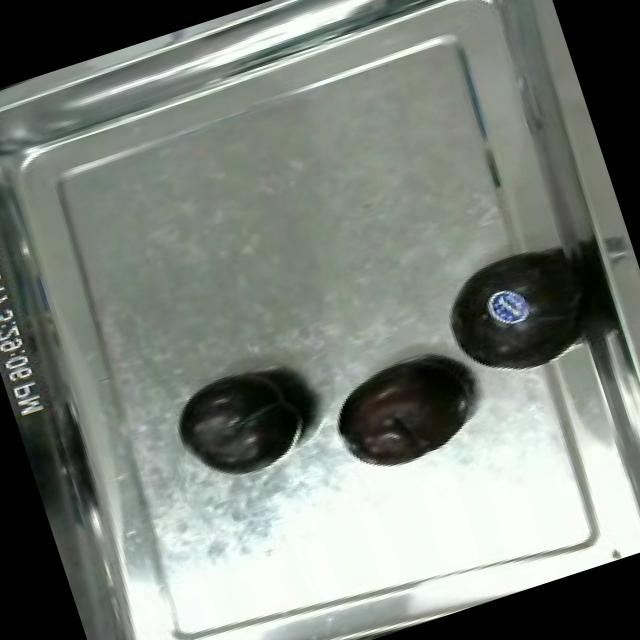Fruit: (422, 227, 607, 398), (320, 336, 492, 486), (161, 350, 325, 490)
